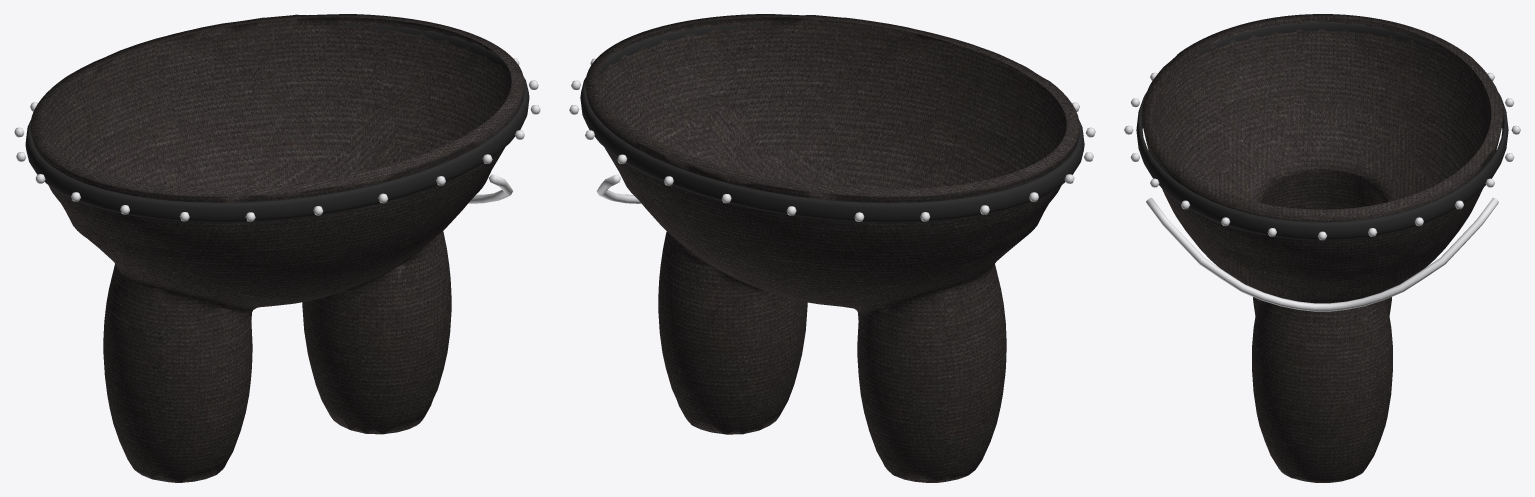
The model's file is skinny1.fbx.
The picture shows the model from 3 angles, left to right: view 1: azimuth 30°, elevation 25°; view 2: azimuth 150°, elevation 25°; view 3: azimuth 270°, elevation 25°; orthographic projection. The views are drawn at different scales.
Parts seen in each view (by area): view 1: skinny1; view 2: skinny1; view 3: skinny1.
Boxes of the visible parts, x1,y1,x2,y2 form: skinny1: (14,14,540,482); skinny1: (569,14,1095,482); skinny1: (1124,14,1520,482).
Size of the model in its own units: 0.8577 by 0.57 by 0.6668.
Materials: 3 (1 with a texture image).
